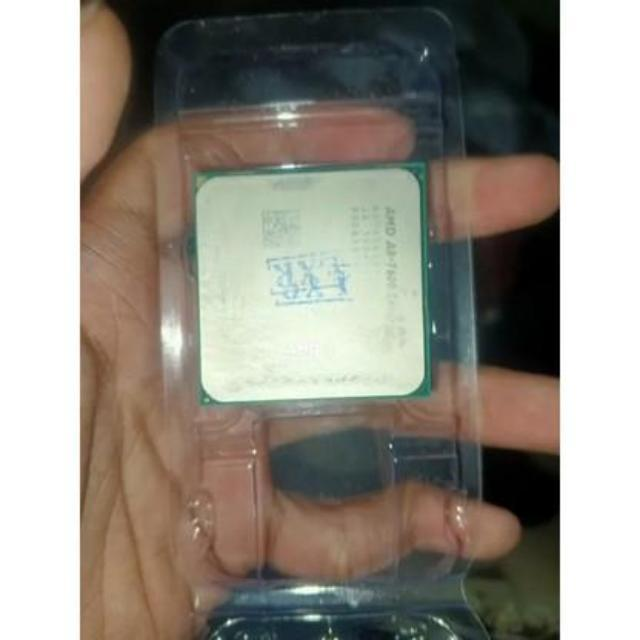CPU: (203, 168, 432, 400)
